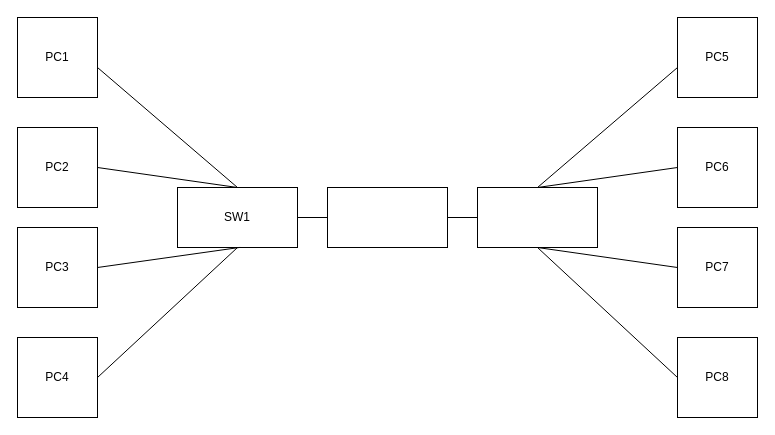
This 775x435 diagram has some shape labels left out. Here are the shapes that lost their labels. From the top down, the centre of each, then its label:
[387,217]: SW3
[537,217]: SW2
